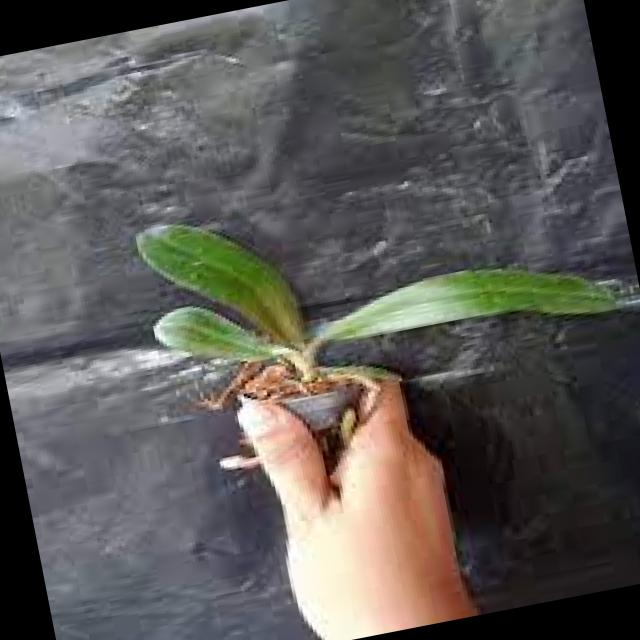leaf: (327, 269, 640, 338), (137, 224, 304, 340), (156, 308, 286, 357)
plant: (0, 5, 640, 640)
pot: (229, 350, 373, 450)
root: (341, 408, 358, 442), (223, 455, 261, 469)
